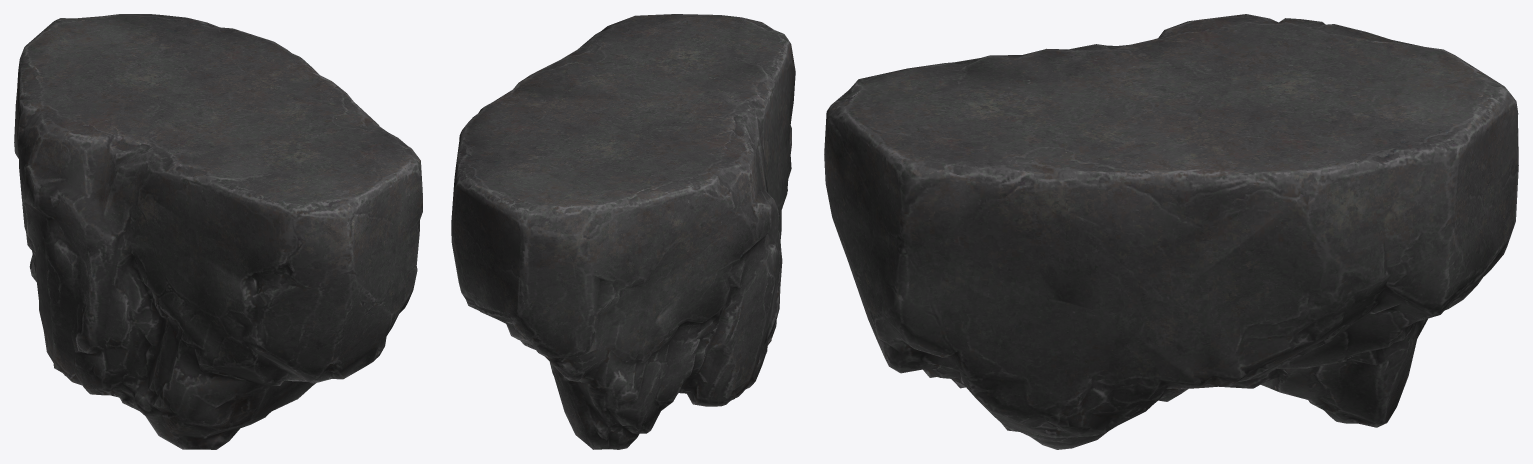
Rendered from SM_RuinPlatform04.fbx.
3 views of the same model, side by side, from view 1: azimuth 30°, elevation 25°; view 2: azimuth 150°, elevation 25°; view 3: azimuth 270°, elevation 25° (orthographic). The views are drawn at different scales.
Parts seen in each view (by area): view 1: SM_RuinPlatform04.mo; view 2: SM_RuinPlatform04.mo; view 3: SM_RuinPlatform04.mo.
Part boxes in pixels (box(x1,y1,x2,y2)): SM_RuinPlatform04.mo: box(14, 14, 422, 449); SM_RuinPlatform04.mo: box(451, 14, 795, 449); SM_RuinPlatform04.mo: box(824, 14, 1518, 449).
Size of the model in its own units: 225 by 226 by 373.
